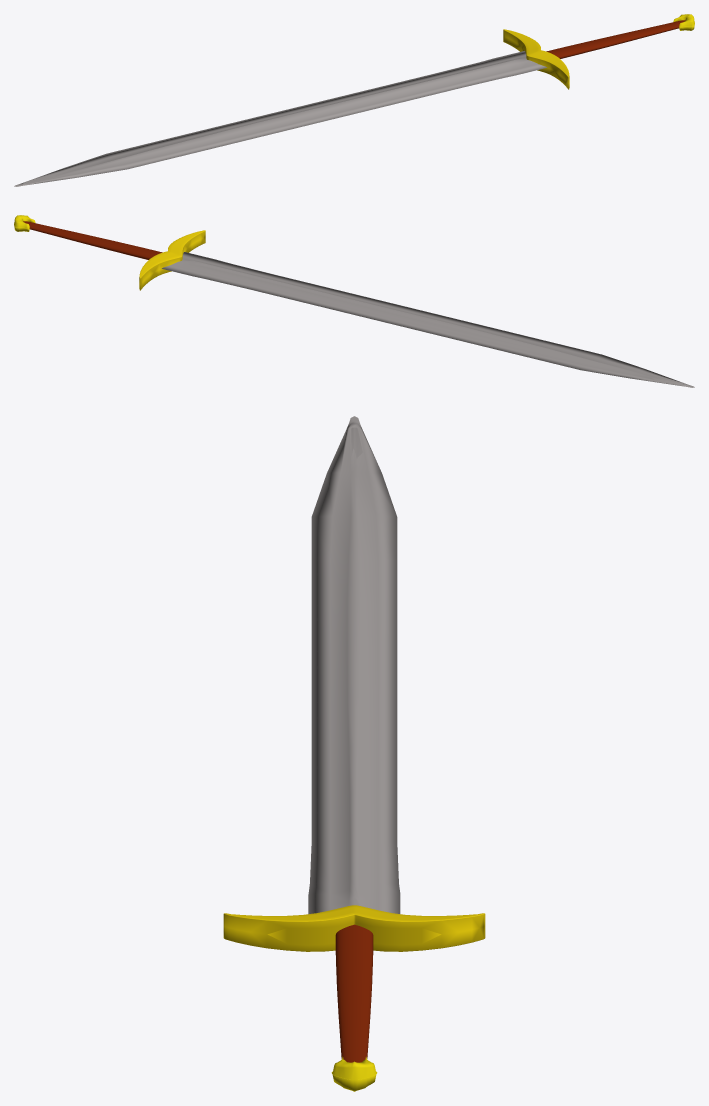
File: Sword.fbx
3 renders of one model, top to bottom at view 1: azimuth 30°, elevation 25°; view 2: azimuth 150°, elevation 25°; view 3: azimuth 270°, elevation 25°, orthographic. The views are drawn at different scales.
Parts seen in each view (by area): view 1: Lame; view 2: Lame; view 3: Lame.
Boxes of the visible parts, <box> form: Lame: <box>14,14,694,186</box>; Lame: <box>14,215,694,387</box>; Lame: <box>223,416,485,1091</box>.
Size of the model in its own units: 0.7626 by 0.0174 by 0.1271.
